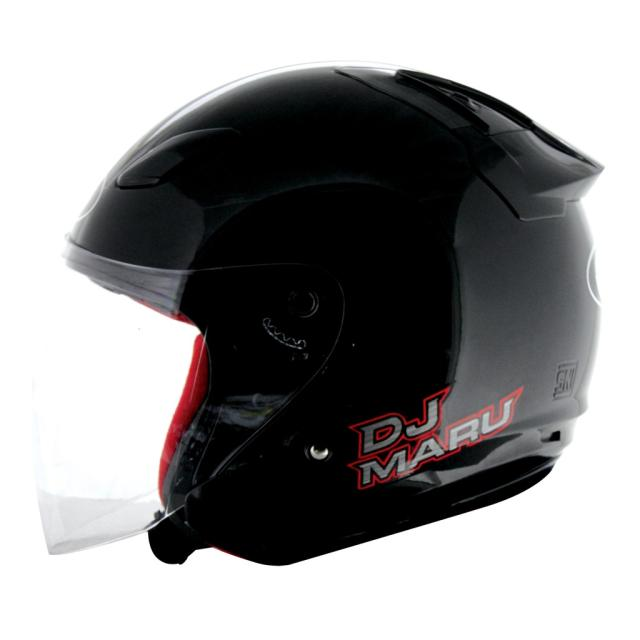Helm: (29, 59, 606, 564)
